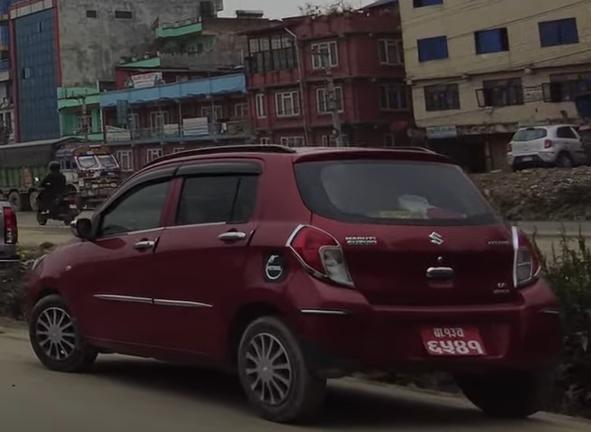car: (36, 138, 567, 418)
truck: (0, 135, 120, 206)
